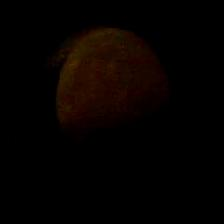fertile: (54, 26, 174, 174)
